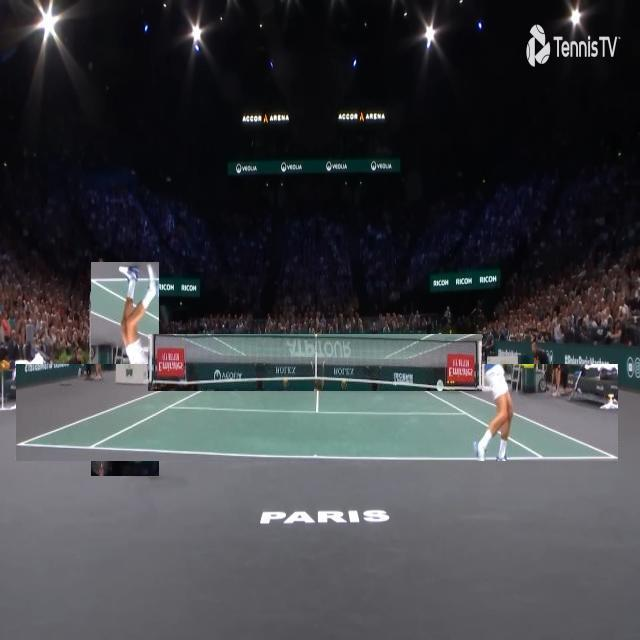court: (16, 364, 618, 461)
net: (148, 334, 482, 391)
player: (91, 262, 159, 476)
